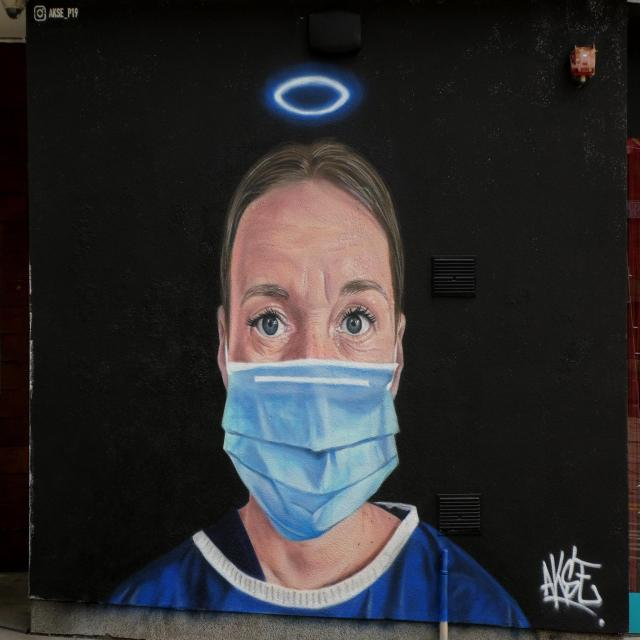Mask: (221, 356, 402, 542)
